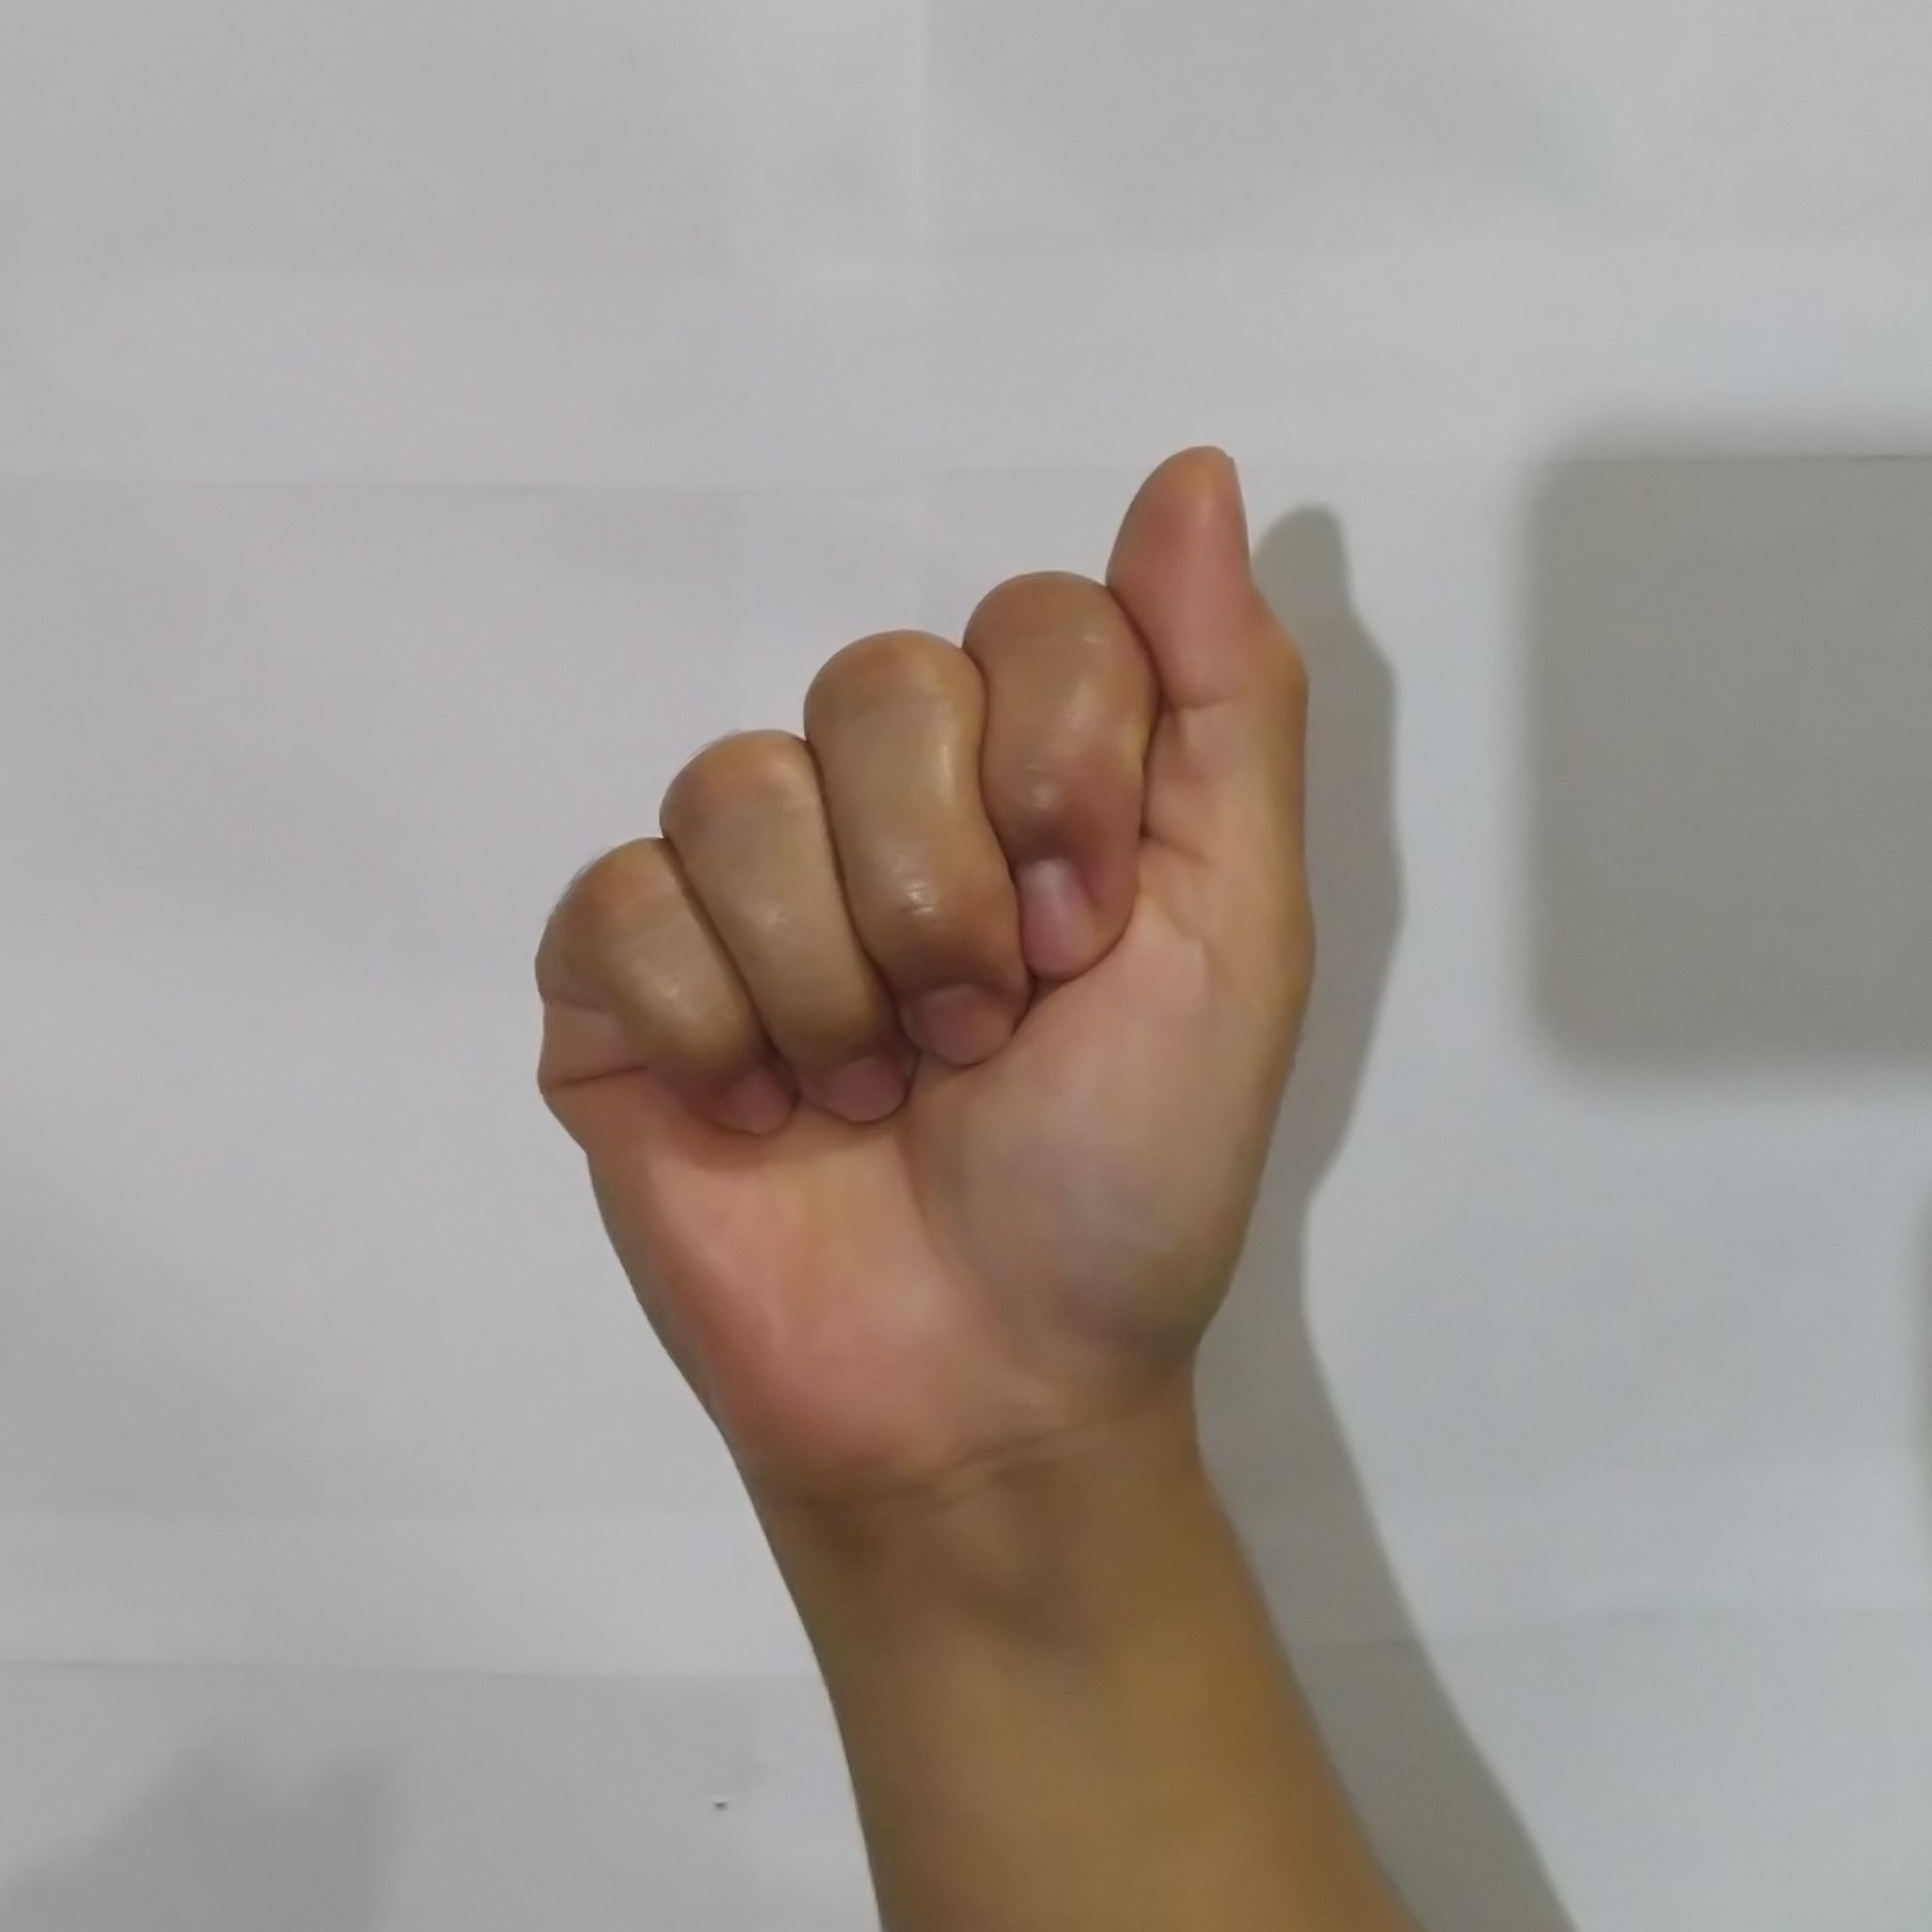A: (520, 432, 1332, 1474)
